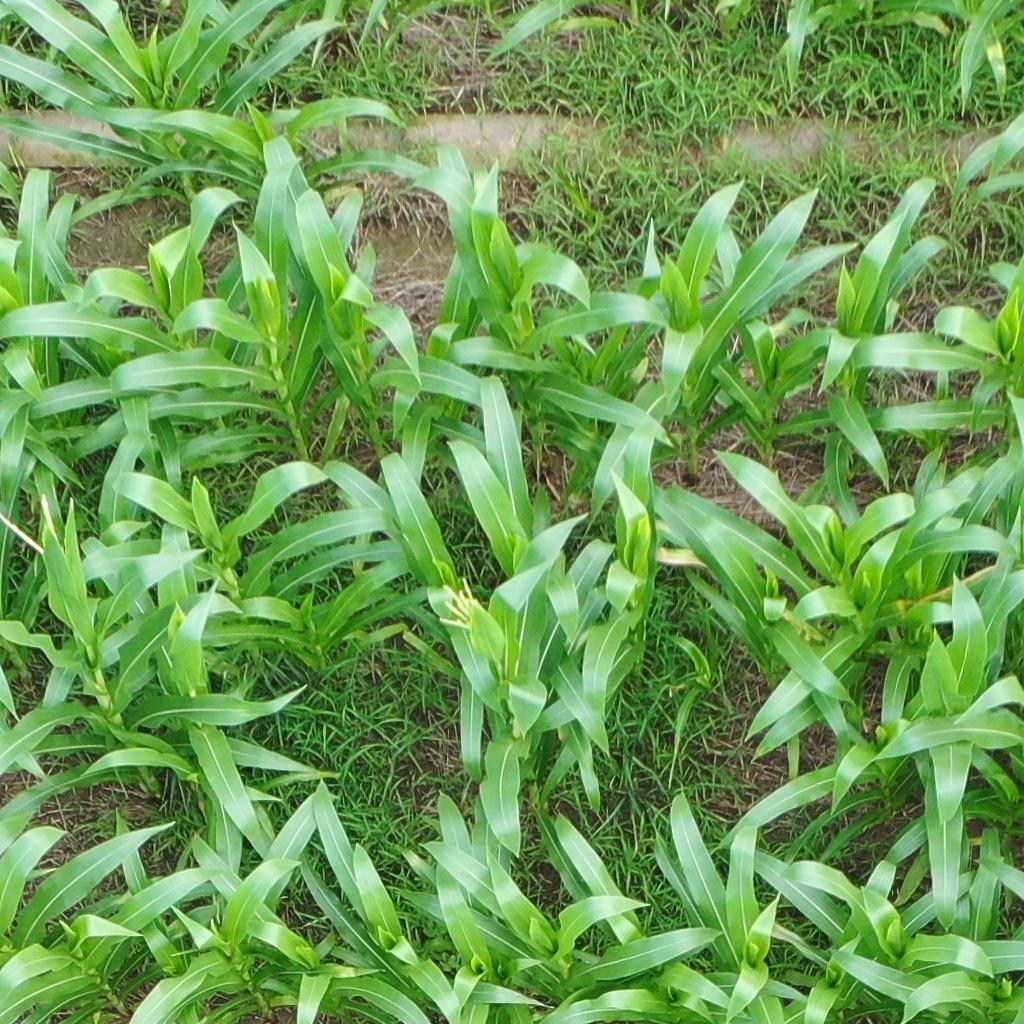Tassel: (1, 492, 80, 556), (434, 574, 481, 631)
